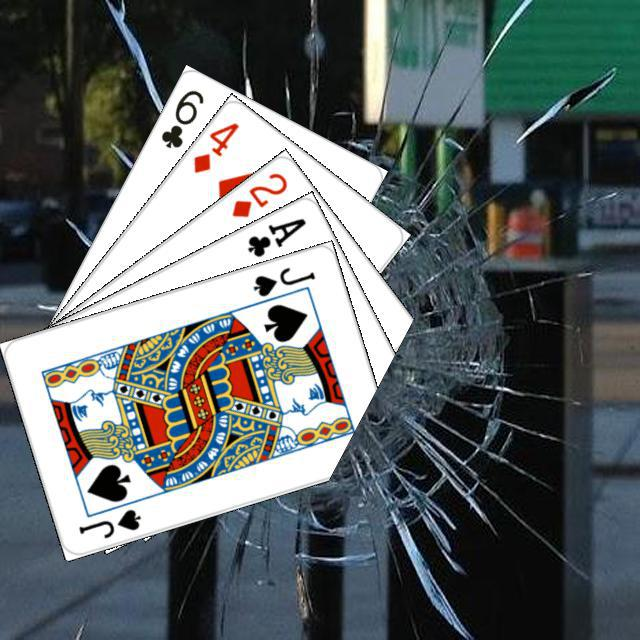2d: (226, 167, 289, 220)
4d: (188, 117, 241, 175)
6c: (156, 84, 206, 150)
Ac: (242, 213, 308, 259)
Js: (248, 262, 317, 299), (73, 504, 143, 540)
